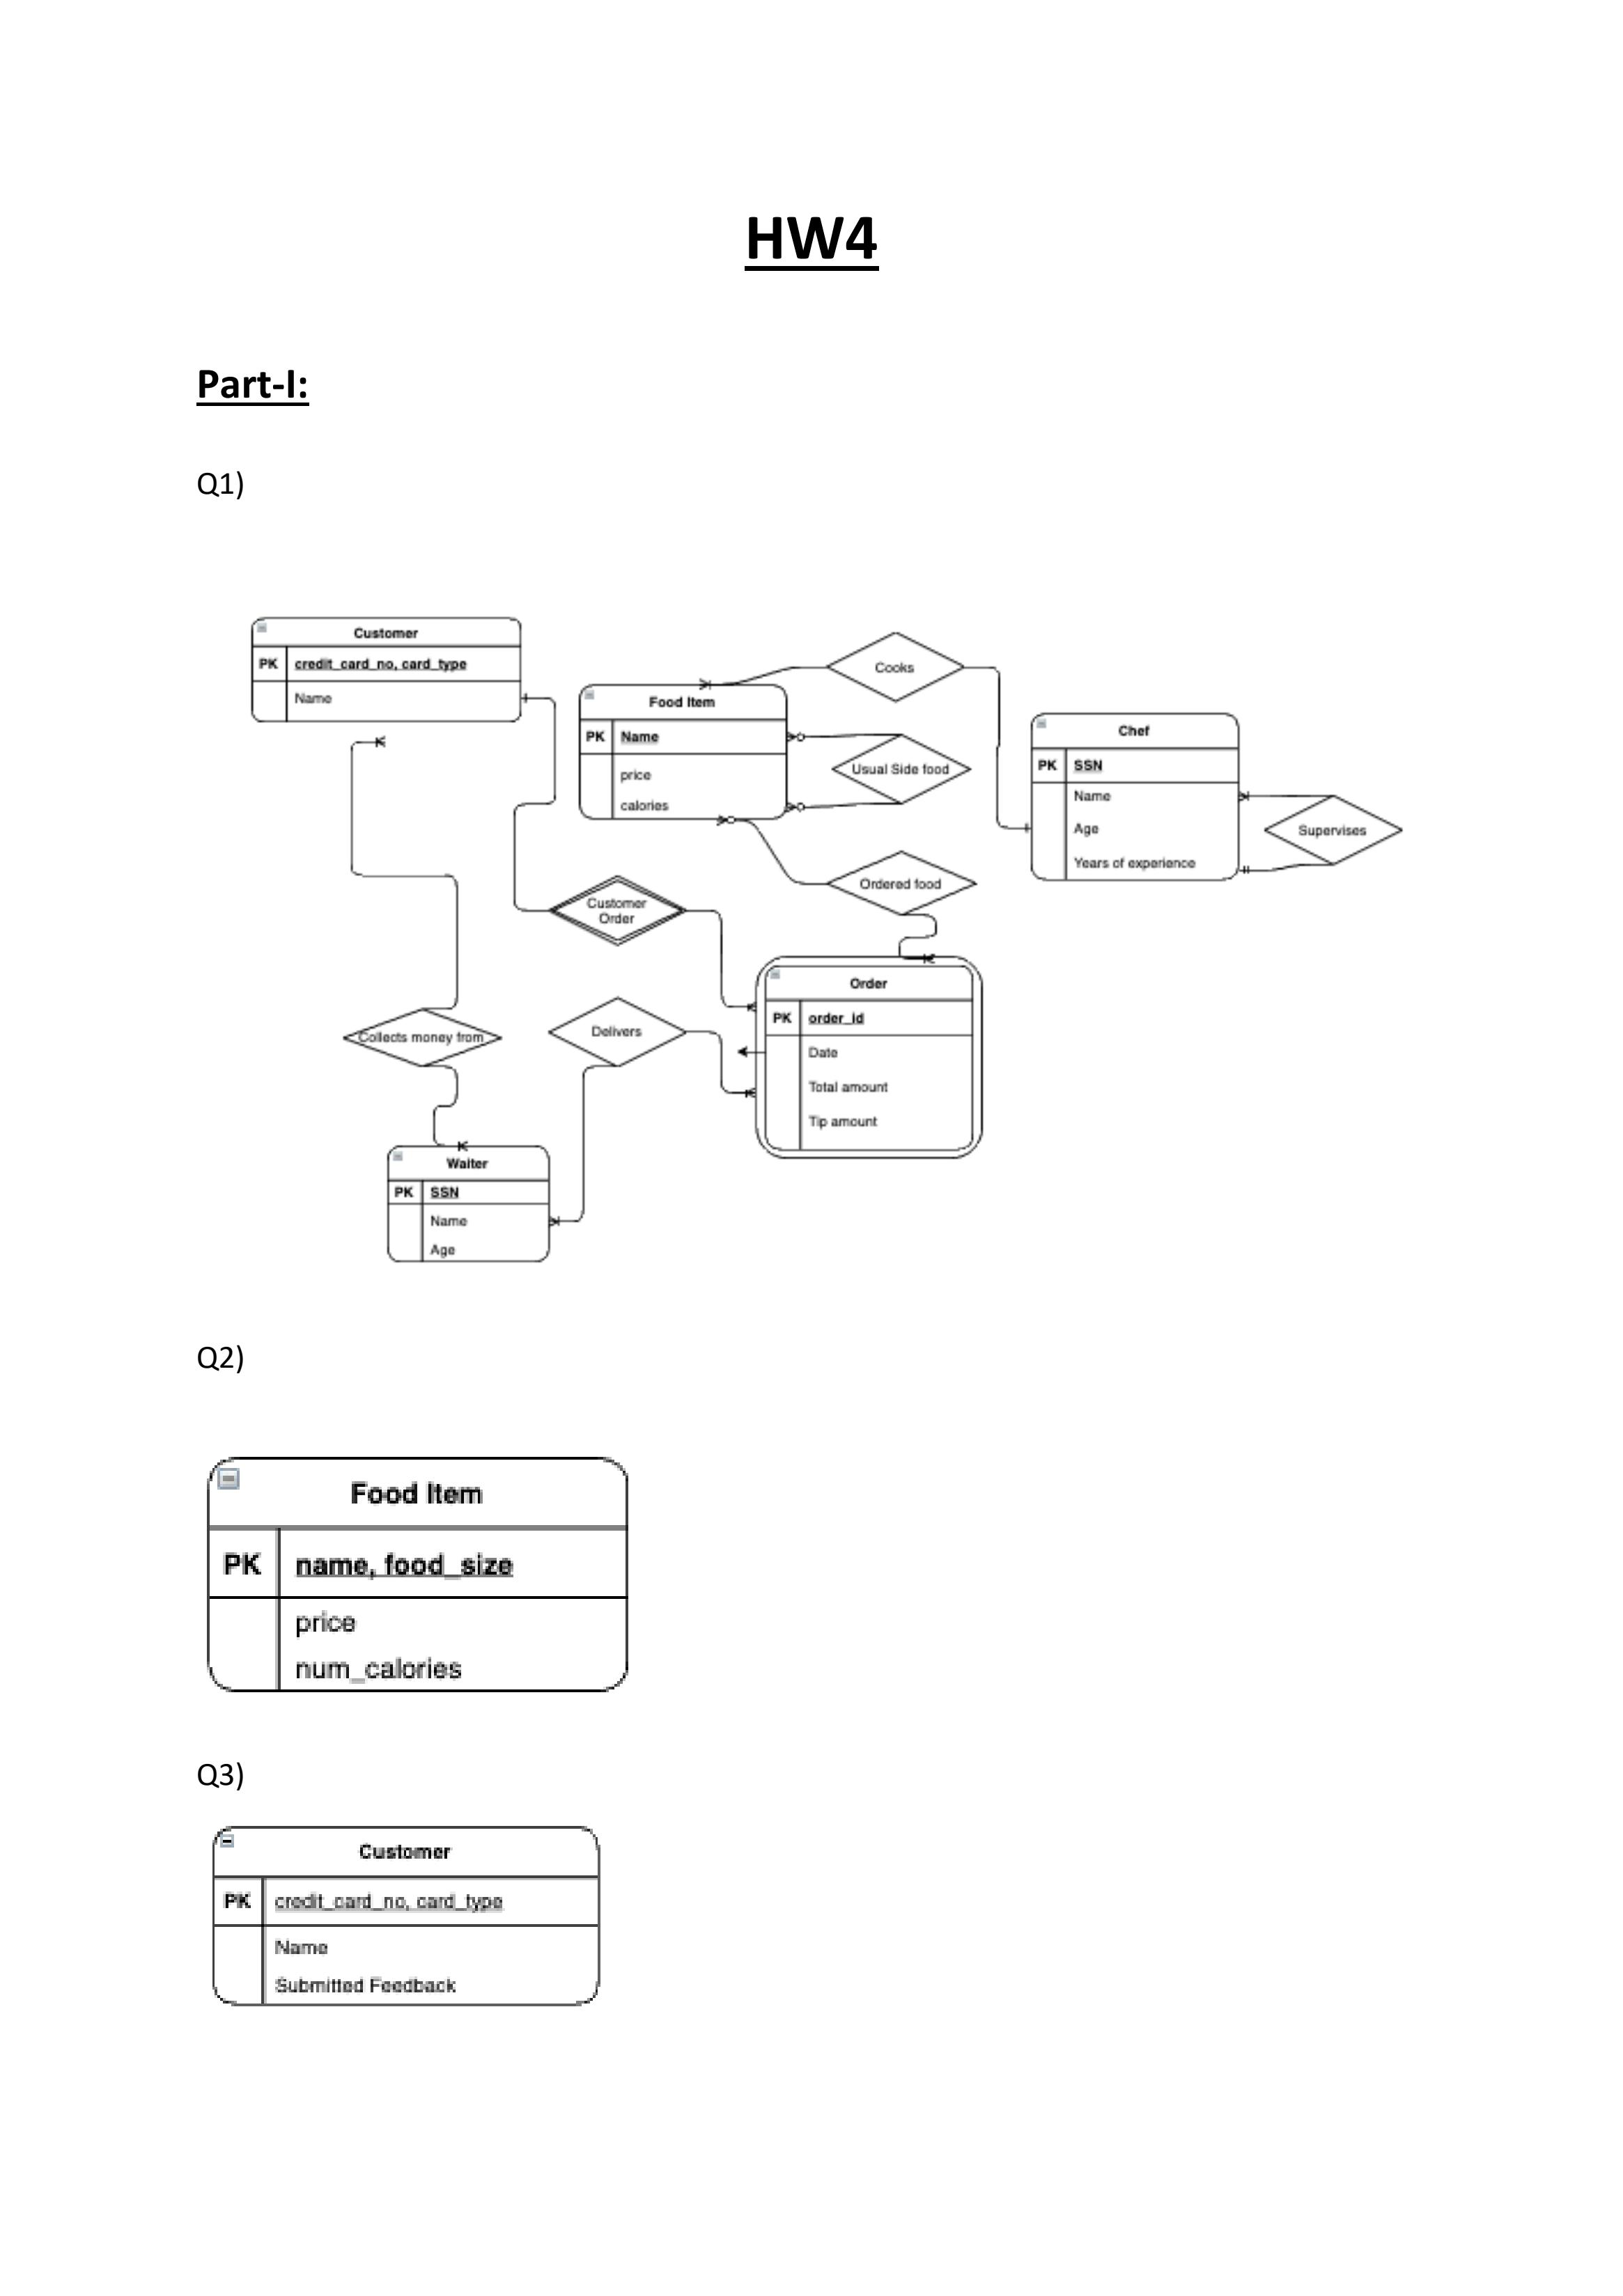Entity: (202, 1453, 631, 1696), (211, 1826, 601, 2008), (754, 955, 984, 1160), (1029, 711, 1240, 883), (249, 616, 523, 725), (578, 683, 789, 822), (386, 1144, 550, 1264)
Relationship: (826, 630, 966, 702), (831, 734, 973, 804), (548, 874, 687, 946), (1263, 795, 1403, 865), (829, 850, 977, 916), (548, 995, 687, 1065), (344, 1008, 502, 1065)
